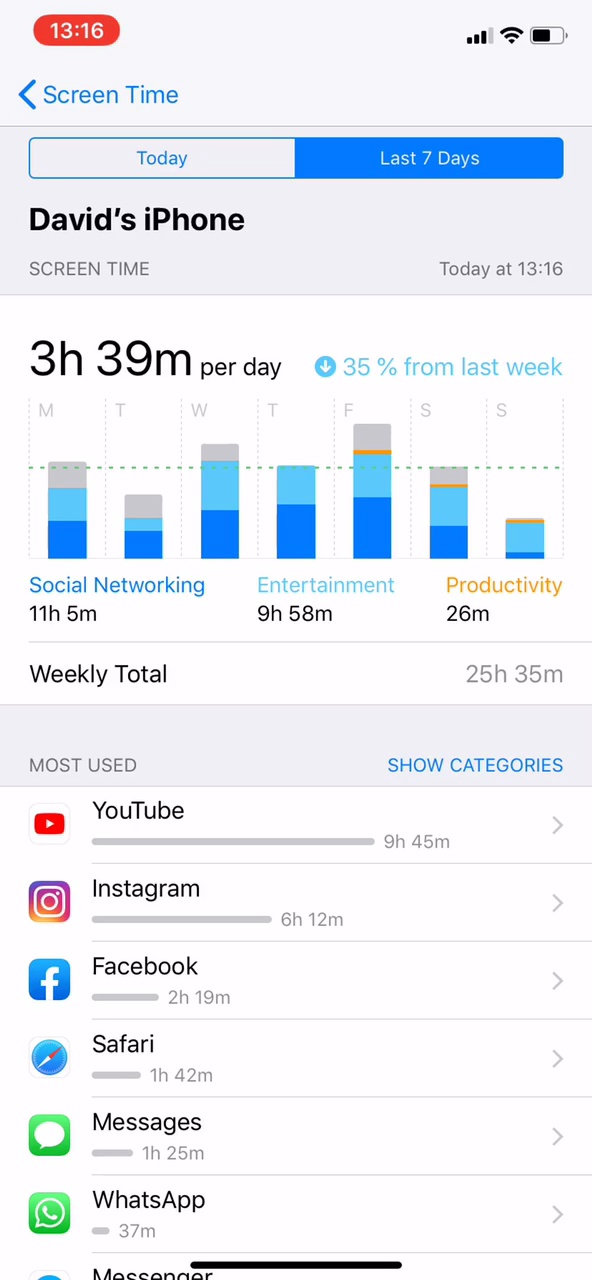use_over: (25, 567, 578, 691)
